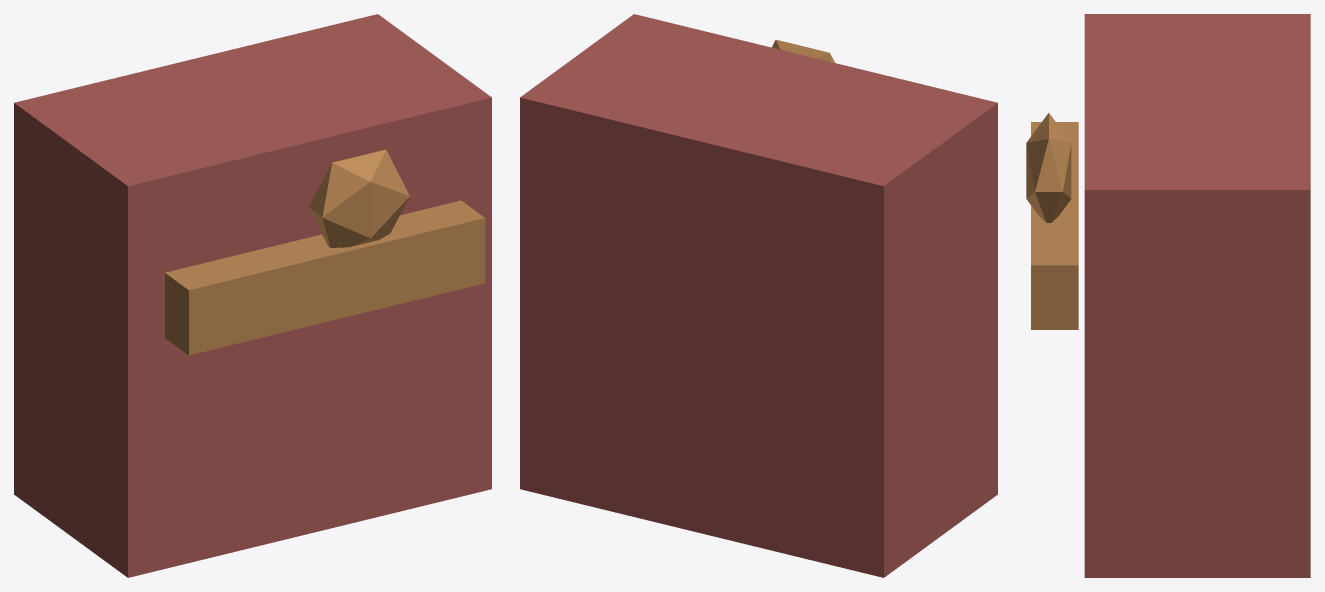
File: resident_01_outfit.glb
3 renders of one model, left to right at view 1: azimuth 30°, elevation 25°; view 2: azimuth 150°, elevation 25°; view 3: azimuth 270°, elevation 25°, orthographic.
Parts seen in each view (by area): view 1: outfit_torso, outfit_trim, outfit_badge; view 2: outfit_torso; view 3: outfit_torso, outfit_trim, outfit_badge.
Boxes of the visible parts, x1=… form: outfit_torso: x1=14, y1=14, x2=491, y2=577; outfit_trim: x1=165, y1=200, x2=485, y2=355; outfit_badge: x1=308, y1=149, x2=409, y2=247; outfit_torso: x1=520, y1=14, x2=997, y2=577; outfit_torso: x1=1084, y1=14, x2=1310, y2=577; outfit_trim: x1=1031, y1=122, x2=1078, y2=329; outfit_badge: x1=1026, y1=113, x2=1071, y2=222.
Bounding box in the file's own units: 0.7 × 0.72 × 0.4779.
